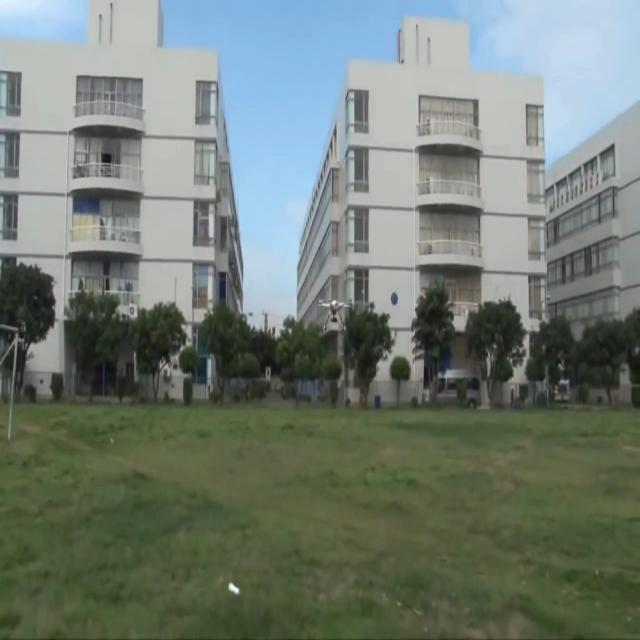drone: (318, 297, 352, 331)
